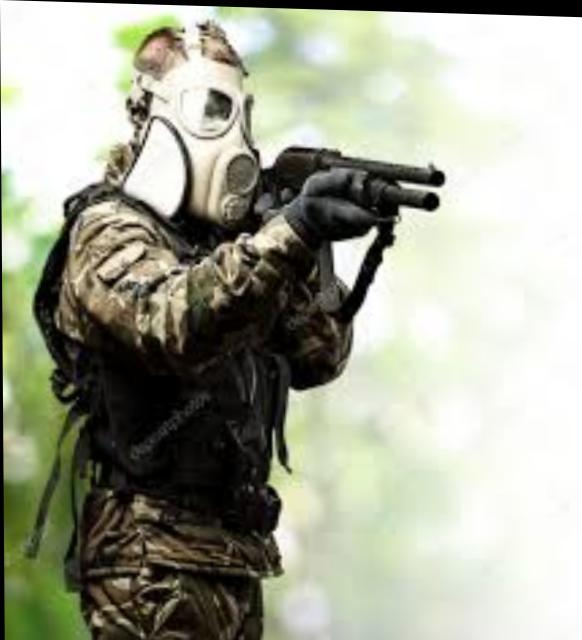other: (34, 13, 340, 634)
